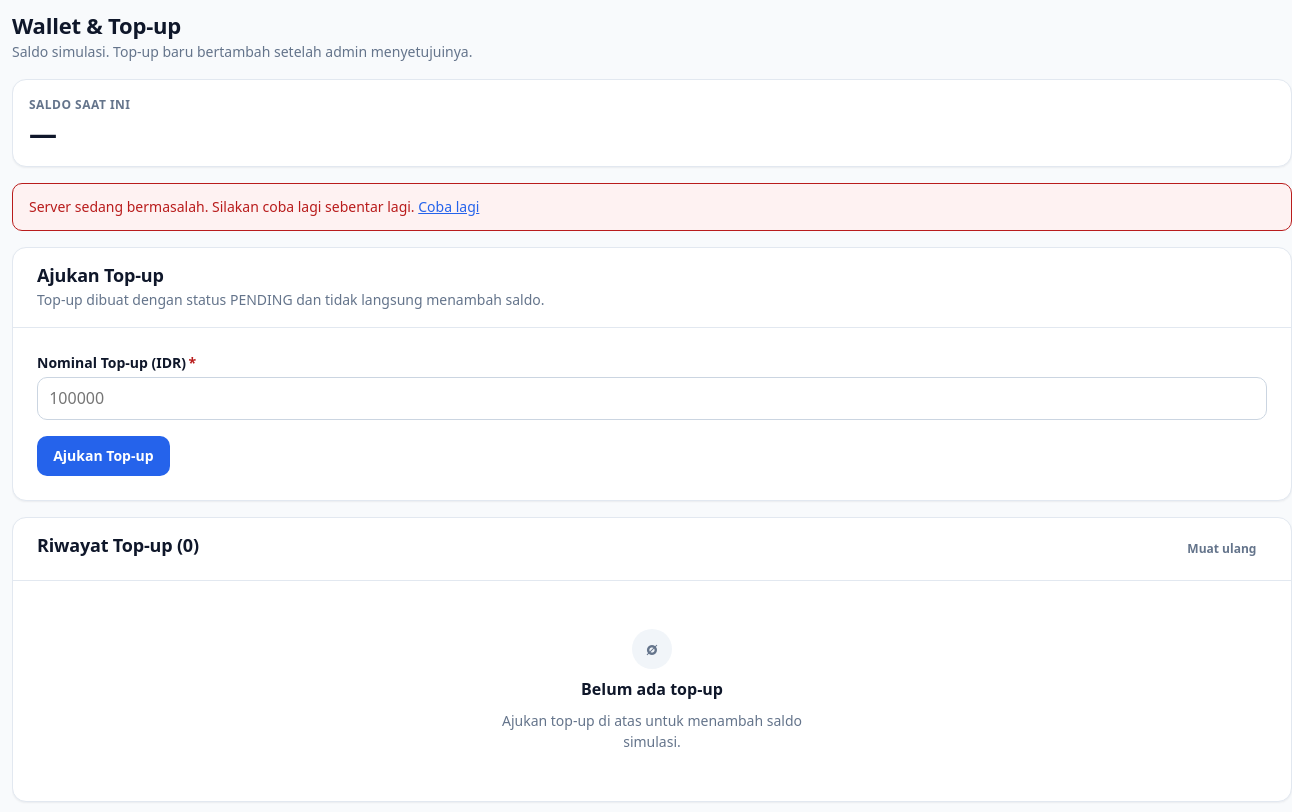
balance › offers a retry when the balance cannot be loaded
The width and height of the screenshot is (1292, 812).
Expected: the message "Server sedang bermasalah. Silakan coba lagi sebentar lagi. Coba lagi" is shown, top-left (12, 183), bottom-right (1291, 231)
A failed balance must not blank the page — the top-up form still works.
Click the button "Coba lagi". click: (449,207)
box: top-left (418, 196), bottom-right (479, 218)
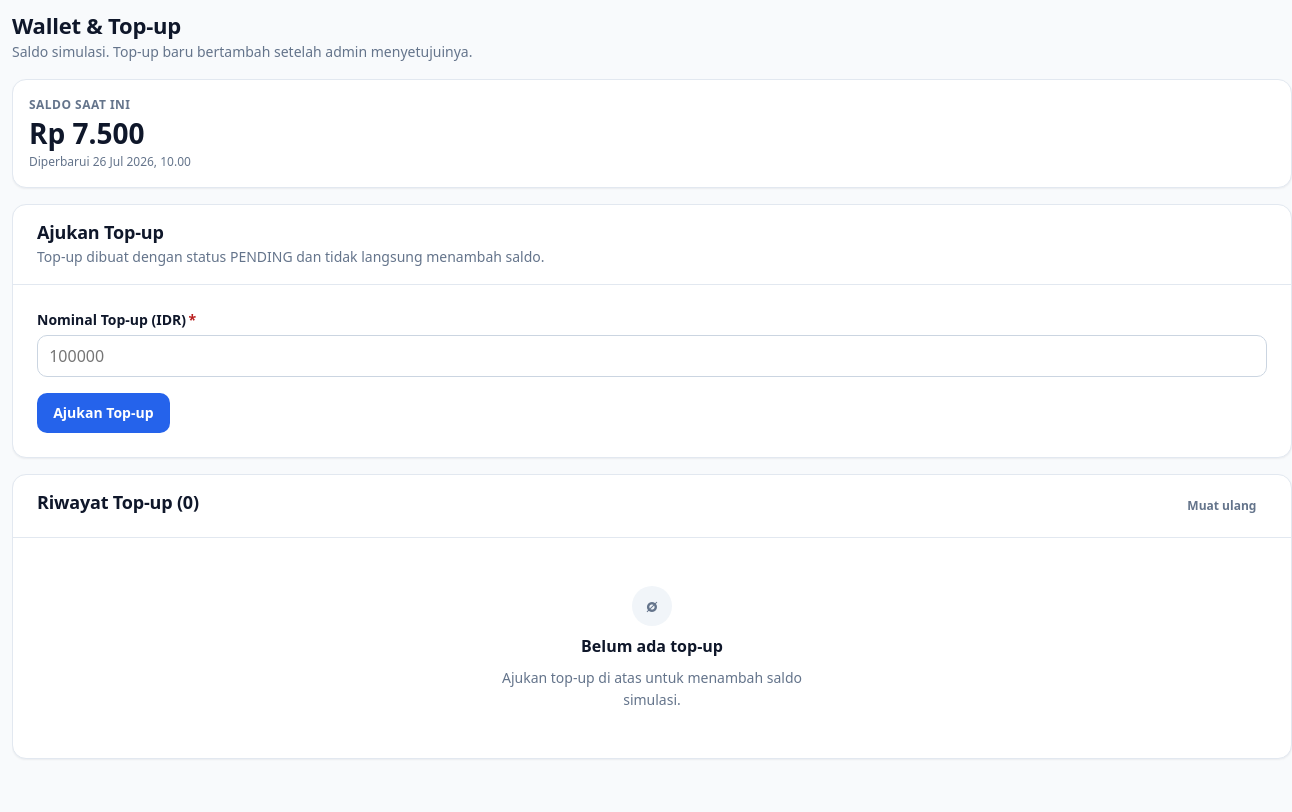
Expected: the text "Rp 7.500" is shown, top-left (29, 114), bottom-right (144, 152)
